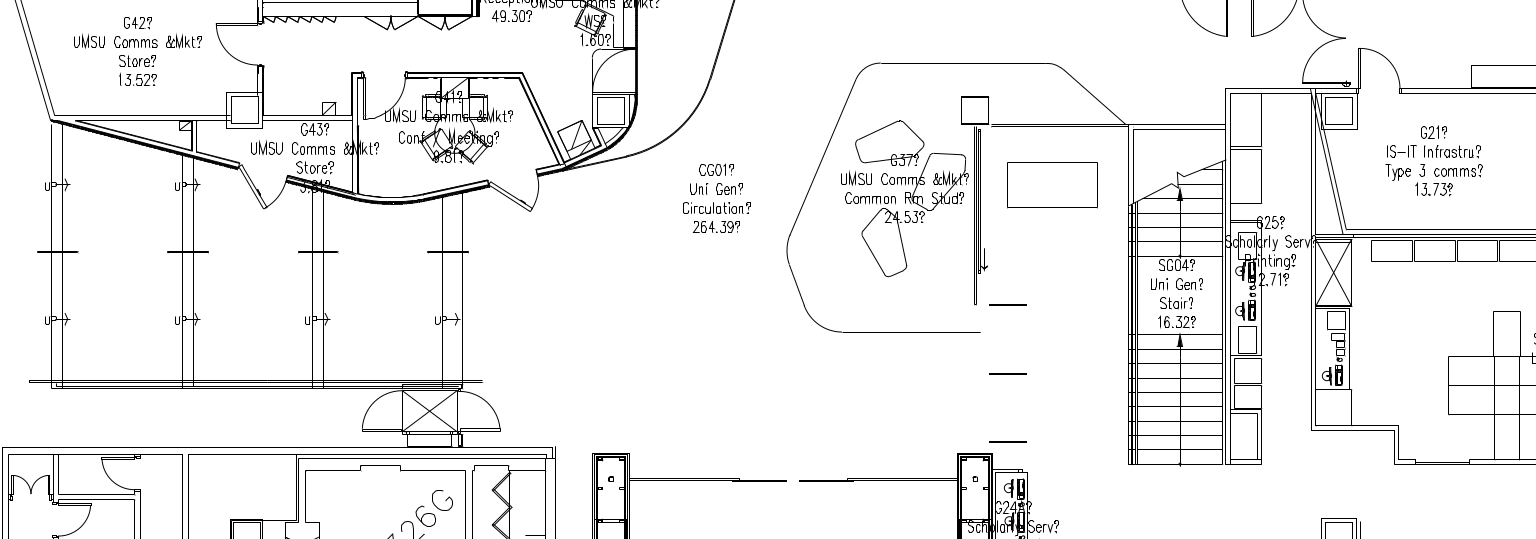door: (240, 159, 289, 218), (212, 16, 261, 75), (353, 386, 403, 438), (459, 385, 509, 437), (490, 165, 540, 217), (1300, 36, 1350, 88), (1355, 40, 1405, 92), (1182, 1, 1232, 52), (1248, 1, 1298, 52), (98, 457, 138, 492), (11, 466, 51, 501), (56, 503, 96, 538)
